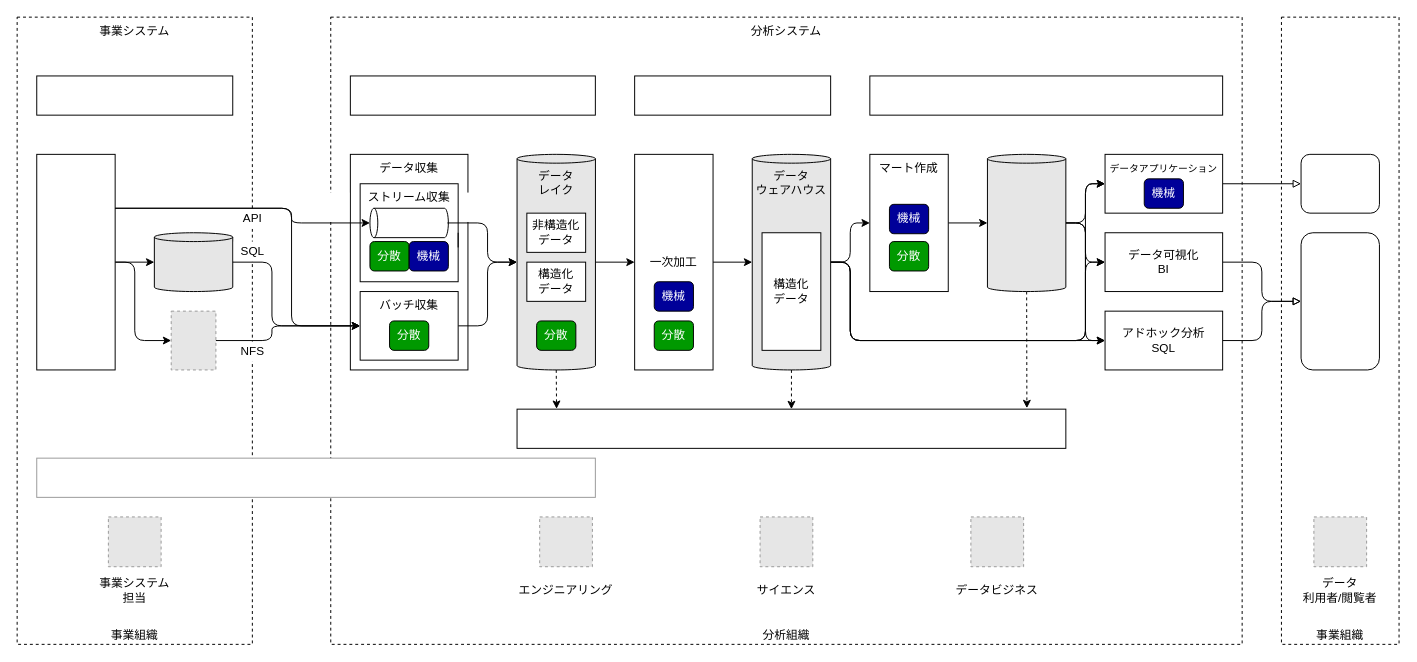
The diagram is 1417 pixels wide and 662 high, and some of its shapes have lost their labels. Grey dashed boxes stand in for pictures. Each missing label, with the centre of its shape:
DB: the point at 193,262
コンシューマー: the point at 483,206
データ マート: the point at 1026,222
データ 生成: the point at 75,261
データ構造変更管理システム: the point at 315,477
プロデューサー: the point at 324,206
メタデータ管理: the point at 791,428
分散キュー: the point at 408,222
利益向上: the point at 1339,183
収集: the point at 472,95
意思決定: the point at 1339,301
活用: the point at 1046,95
生成: the point at 134,95
蓄積: the point at 732,95
